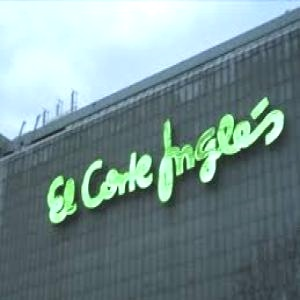corte_ingles: (14, 122, 300, 195)
